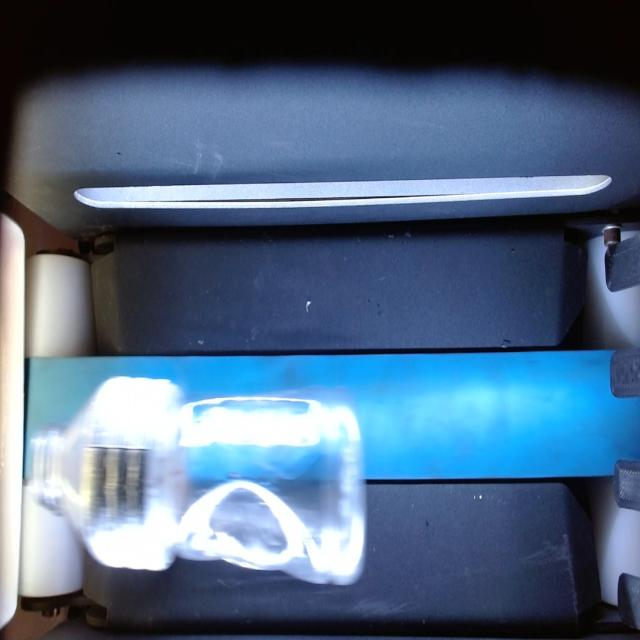bottom: (176, 396, 365, 583)
label: (85, 378, 178, 569)
neck: (28, 388, 99, 561)
